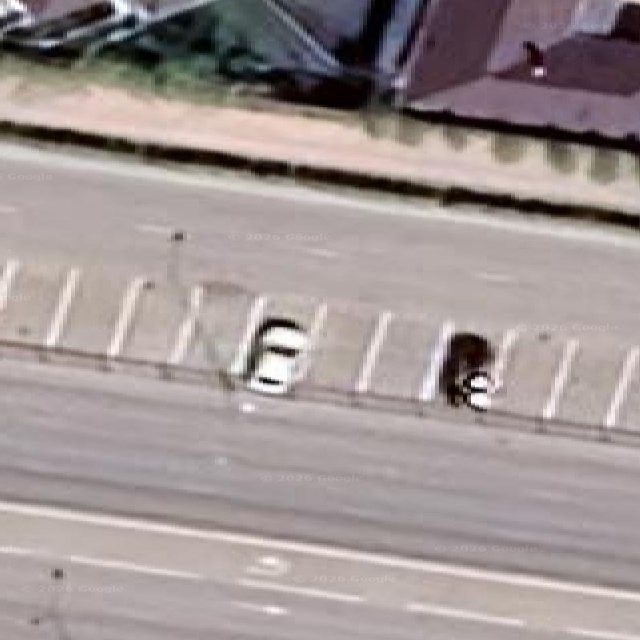car: (247, 320, 307, 393), (440, 332, 493, 409), (460, 371, 492, 411)
